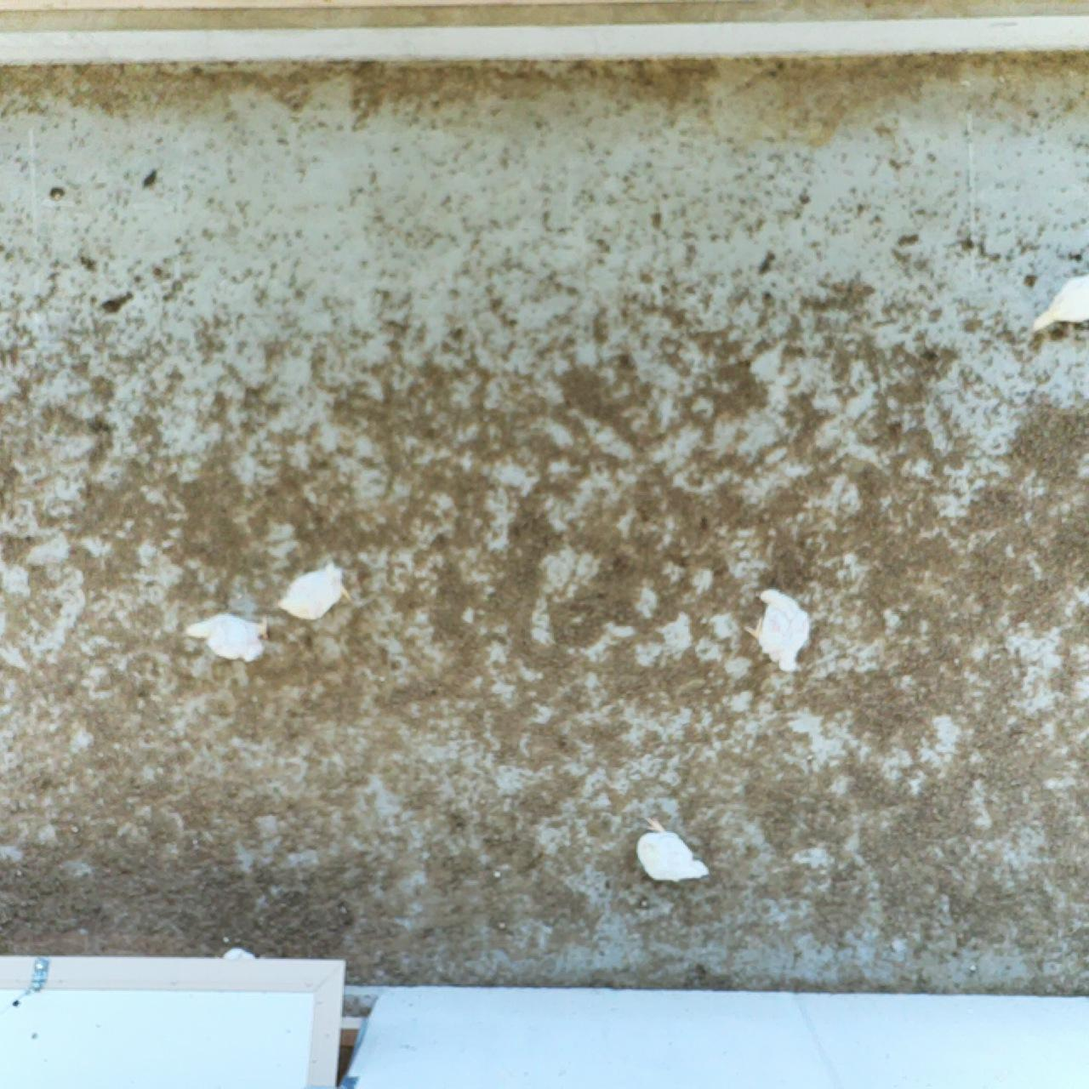chicken: (737, 586, 815, 677), (631, 805, 713, 889), (271, 558, 358, 623), (180, 609, 276, 666), (1029, 268, 1089, 343)
